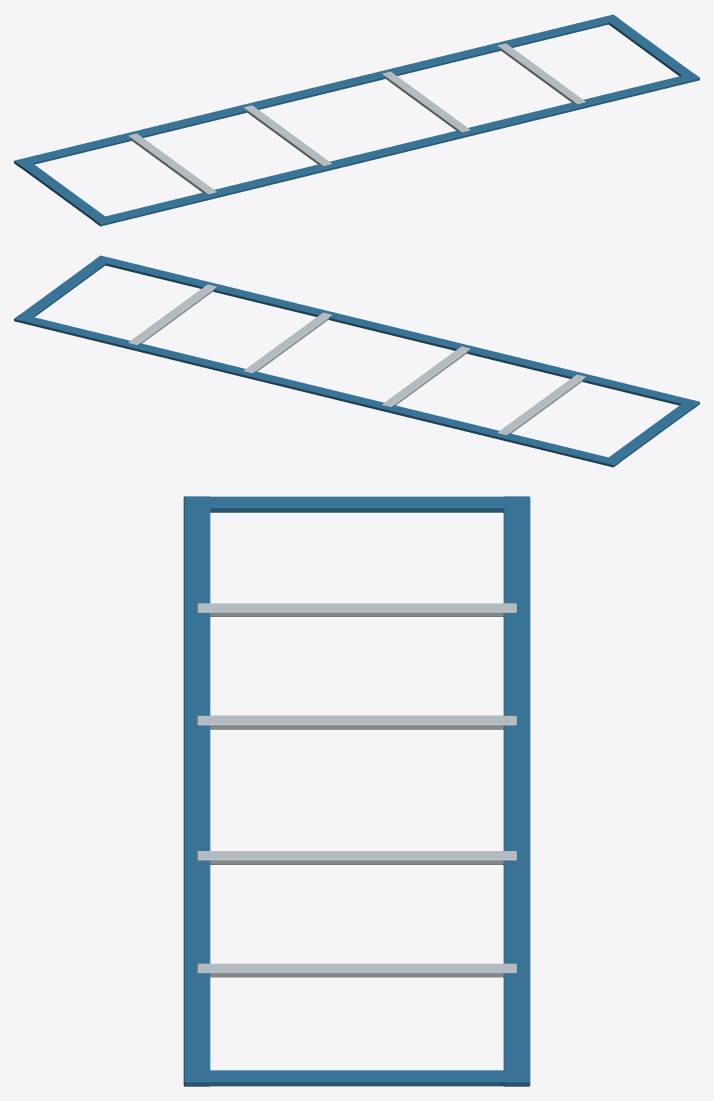
File: curling-club-and-ice-maintenance-ice-marking-stencil-30df2d10__31302.glb
The picture shows the model from 3 angles, top to bottom: view 1: azimuth 30°, elevation 25°; view 2: azimuth 150°, elevation 25°; view 3: azimuth 270°, elevation 25°; orthographic projection. The views are drawn at different scales.
Visible parts, largest first — view 1: ice-marking-stencil; view 2: ice-marking-stencil; view 3: ice-marking-stencil.
Part boxes in pixels (left/top/right/bottom): ice-marking-stencil: left=14, top=14, right=699, bottom=226; ice-marking-stencil: left=14, top=255, right=699, bottom=467; ice-marking-stencil: left=183, top=496, right=530, bottom=1086.
Size of the model in its own units: 1.3 by 0.00722 by 0.325.
